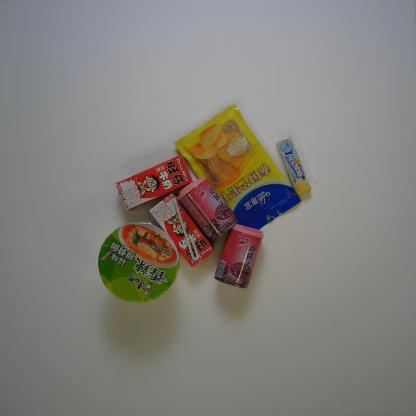Candy: (276, 136, 312, 196)
Canned Food: (176, 176, 239, 242), (214, 222, 264, 290)
Dried Fruit: (173, 104, 302, 231)
Instant Noodles: (98, 221, 180, 304)
Milk: (148, 192, 214, 268), (115, 154, 194, 211)
